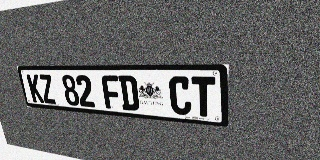2: (75, 75, 95, 107)
8: (61, 75, 80, 106)
C: (168, 76, 192, 116)
D: (118, 75, 140, 111)
F: (101, 75, 122, 110)
K: (26, 74, 44, 103)
T: (191, 76, 215, 118)
Z: (38, 74, 57, 104)
